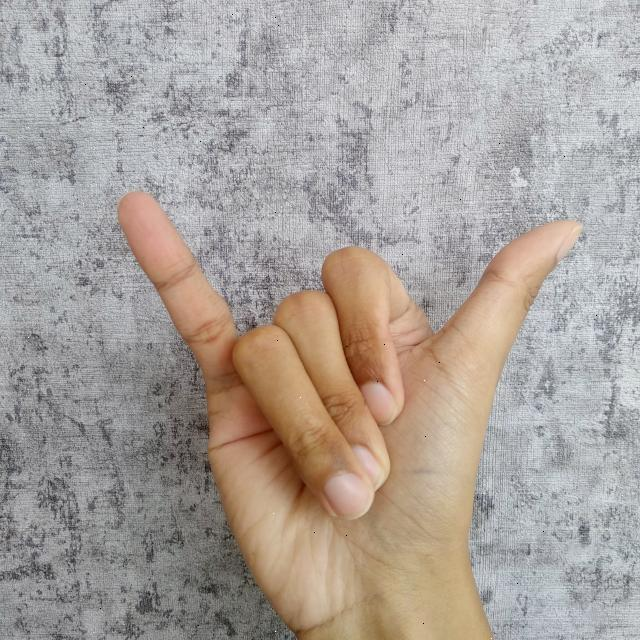Y: (114, 180, 589, 640)
